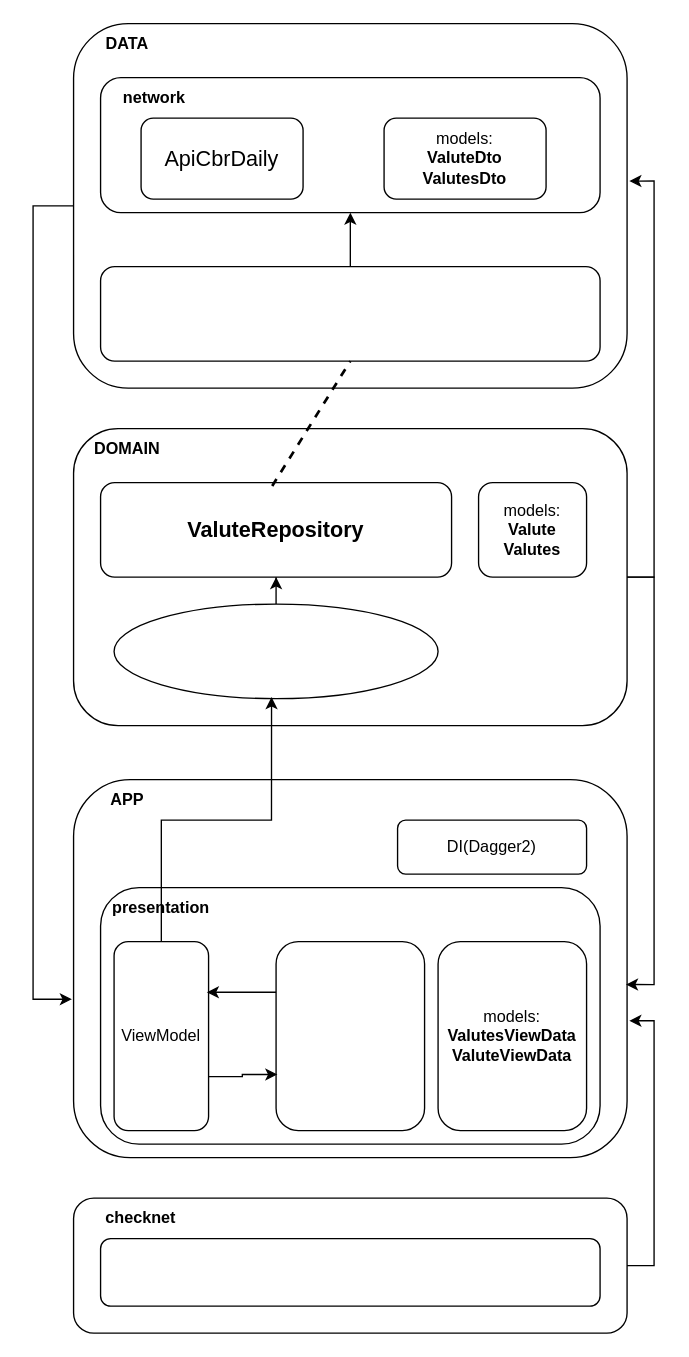
The diagram is 689 pixels wide and 1357 high, and some of its shapes have lost their labels. The shapes that lost their labels are listed below. From the top down, each one's box as (x1, y1, x2, y2) in pixels, then its label:
(99, 265, 600, 361): ValuteRepositoryImpl
(113, 603, 438, 699): GetValutesUseCase
(275, 940, 425, 1131): MainActivity CheckFragment MainFragment
(99, 1237, 600, 1306): CheckNetwork
